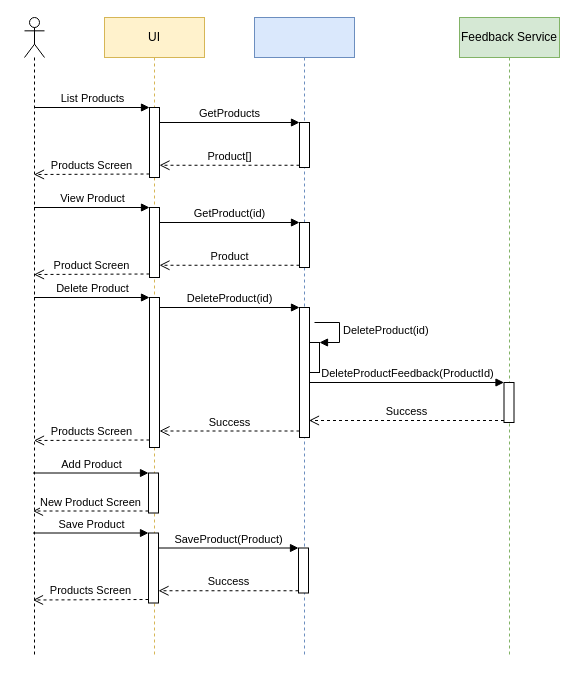
This 577x675 diagram has some shape labels left out. The shapes that lost their labels are listed below. From the top down, each one's box as (x1, y1, x2, y2) in pixels, then its label:
(24, 16, 44, 658): Admin
(254, 16, 354, 658): Product Service
